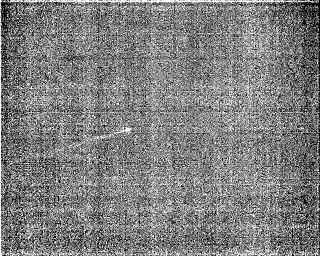AIRPLANE: (58, 125, 134, 152)
